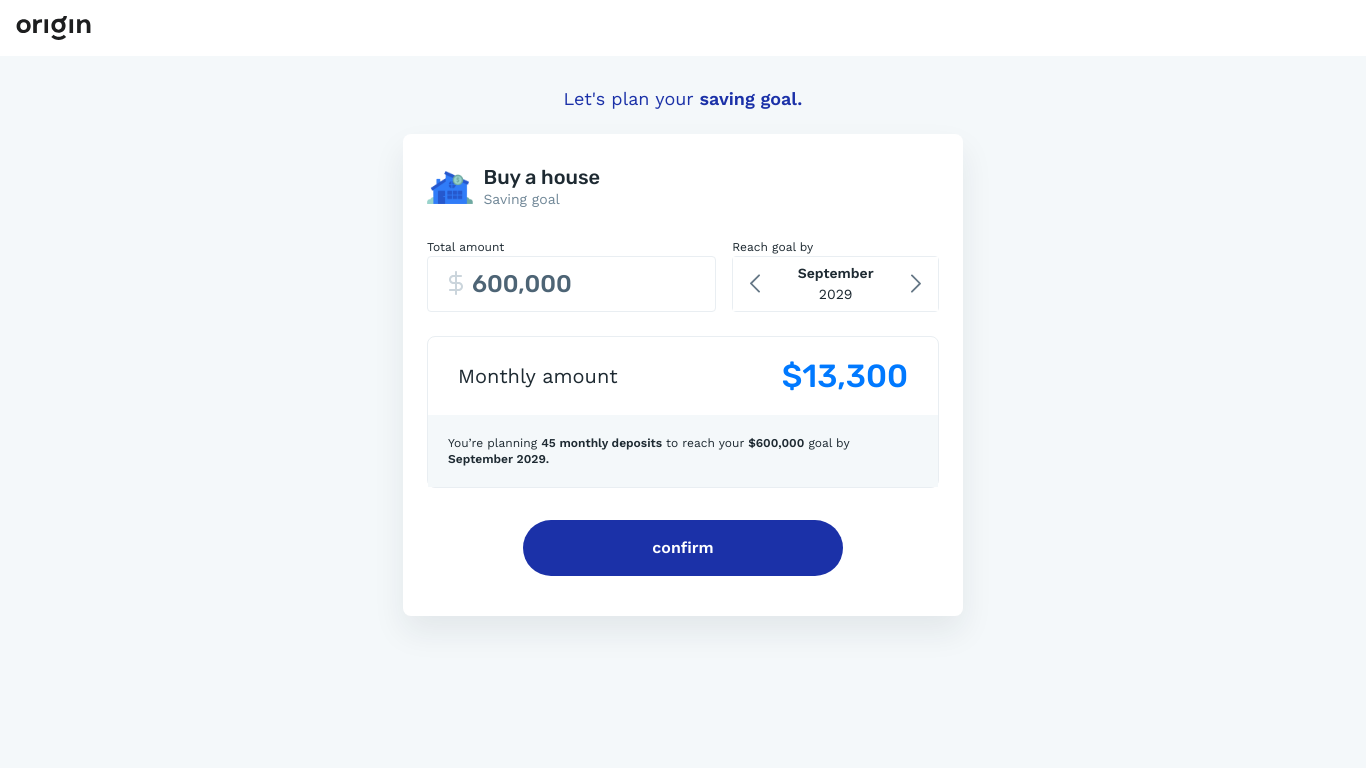
Test: Home Buy a house › Calculate correct value when change goal date › Should calculte correct value when increase months
Double-click the button with test id "increase-button" at (916, 284), box [894,257,938,311]
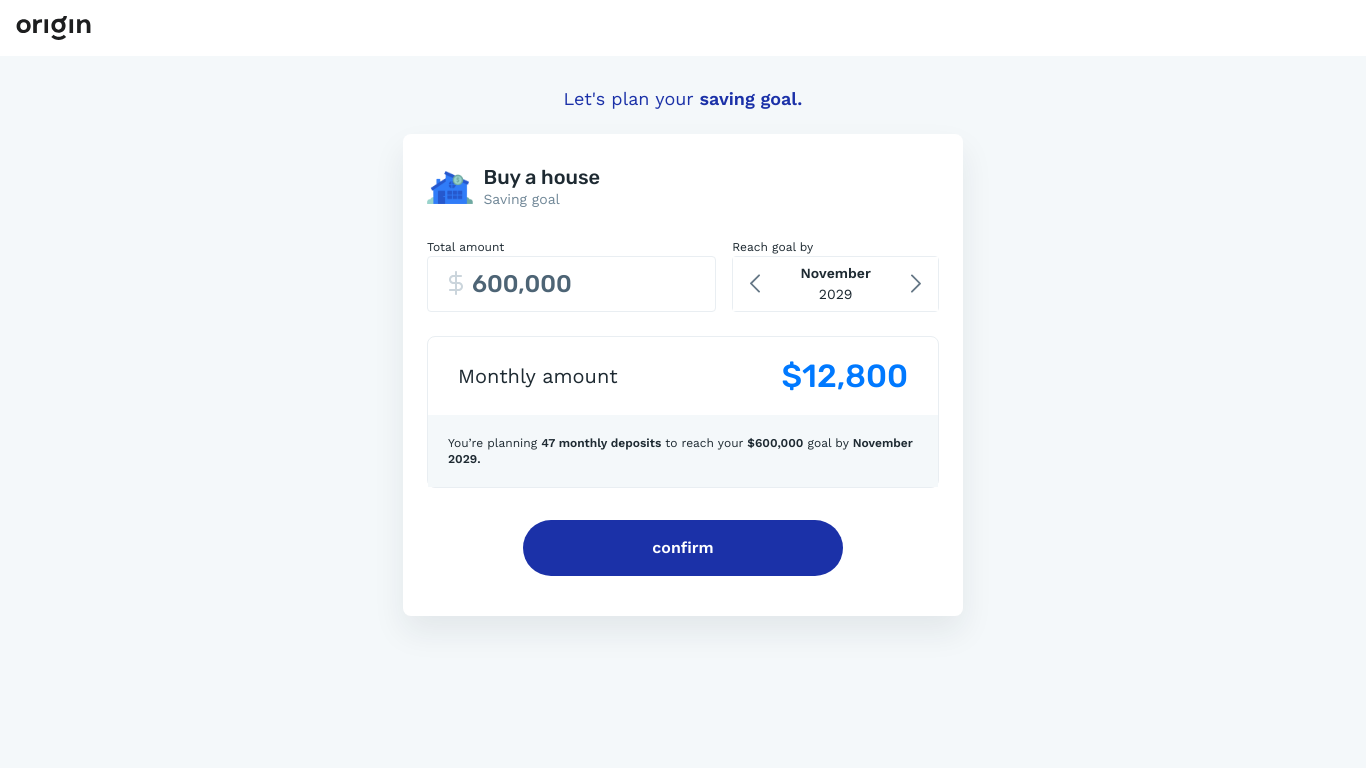
Expected: the text with test id "monthly-amount" reads "$12,800", [782,357,909,395]
Click the button with test id "increase-button". click: (916, 284)
box: [894,257,938,311]
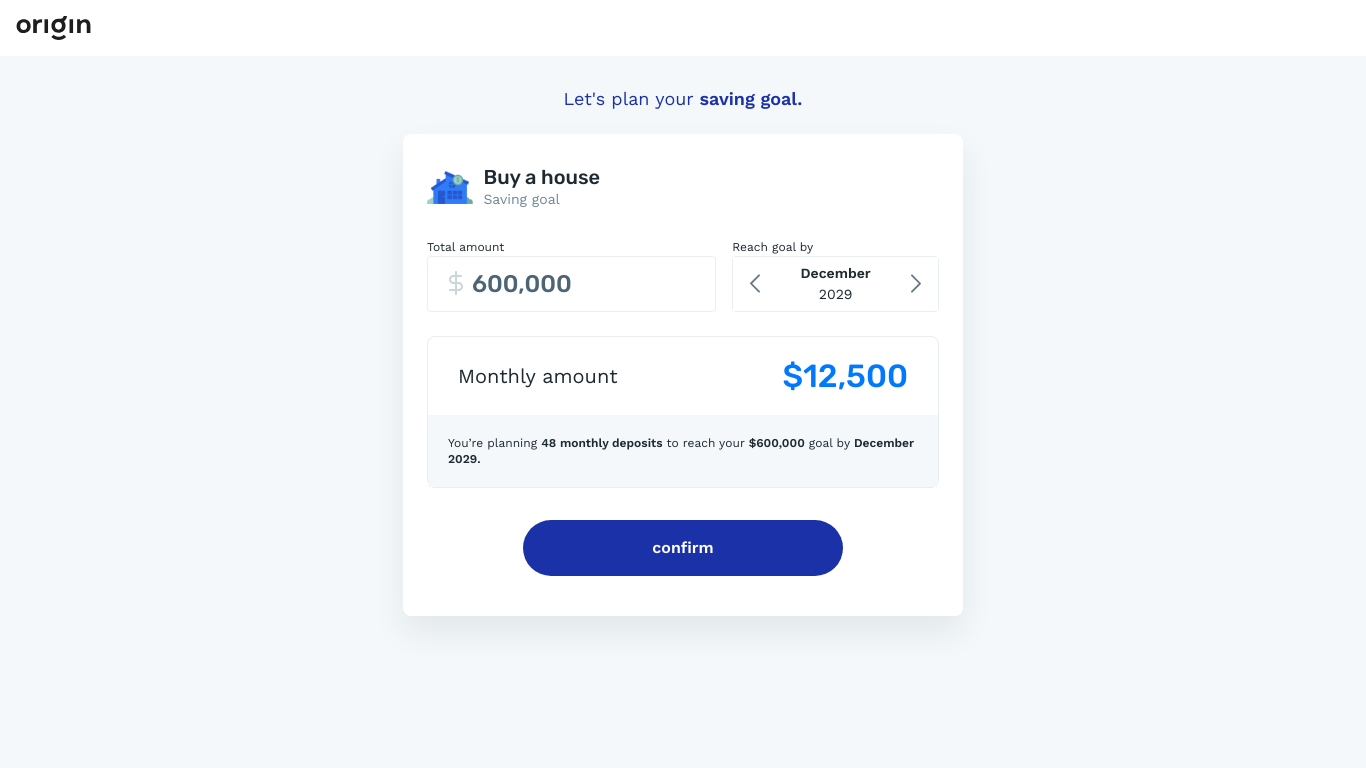
Expected: the text with test id "monthly-amount" reads "$12,500", [783,357,909,395]
